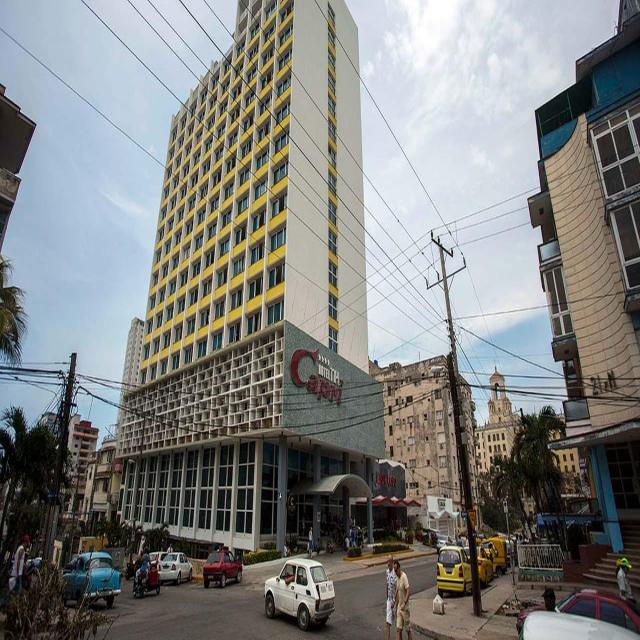body: (0, 533, 30, 617), (392, 559, 414, 639), (384, 552, 398, 640), (616, 556, 636, 602), (132, 547, 152, 590), (515, 528, 530, 573), (540, 586, 562, 614), (22, 553, 36, 589), (348, 516, 362, 548), (133, 548, 145, 582), (284, 564, 302, 586), (508, 536, 516, 575), (390, 516, 402, 534), (306, 535, 314, 558), (313, 535, 321, 557), (308, 526, 313, 560), (282, 542, 292, 558), (615, 556, 622, 578), (326, 533, 332, 555), (166, 542, 174, 555), (465, 530, 471, 546), (344, 535, 349, 553), (457, 534, 463, 547), (456, 524, 460, 537), (218, 543, 222, 550)
